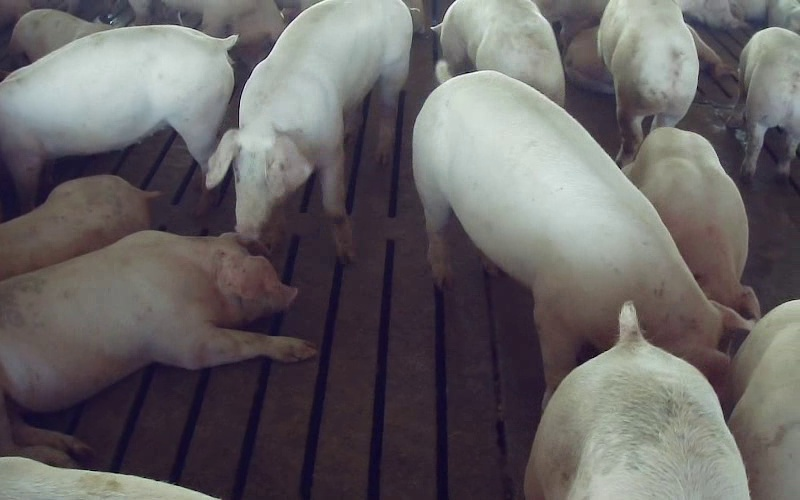pig: (413, 61, 749, 397), (0, 231, 315, 410), (0, 25, 236, 211), (526, 303, 748, 499), (625, 127, 759, 318), (0, 175, 158, 279), (728, 300, 799, 499), (433, 0, 563, 105), (728, 27, 799, 176)
